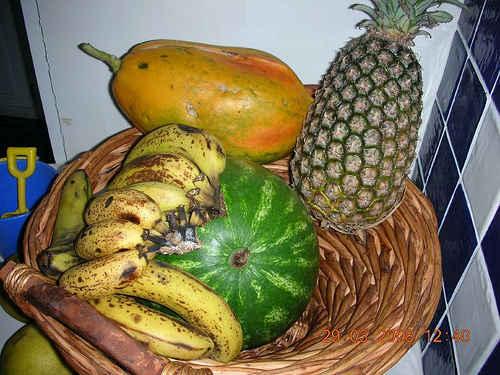pineapple: (289, 0, 472, 234)
